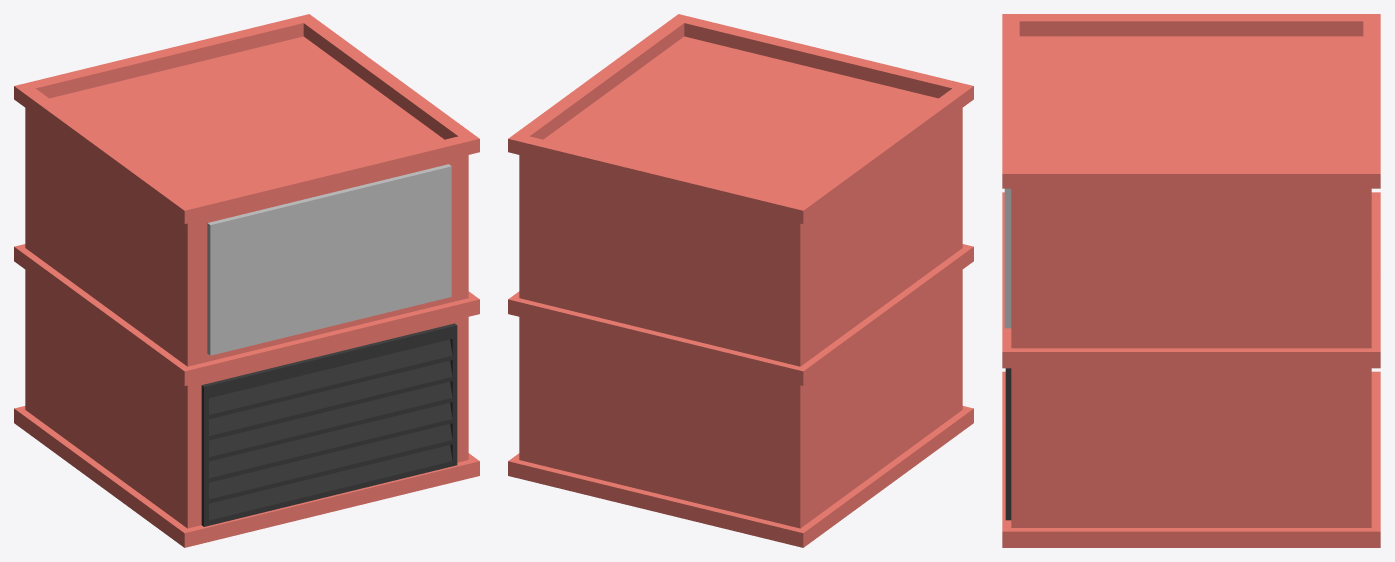
File: 2 Building.fbx
3 views of the same model, side by side, from view 1: azimuth 30°, elevation 25°; view 2: azimuth 150°, elevation 25°; view 3: azimuth 270°, elevation 25° (orthographic). The views are drawn at different scales.
Parts seen in each view (by area): view 1: Smol1, DoorShutter, Sign1; view 2: Smol1; view 3: Smol1, Sign1, DoorShutter.
Part boxes in pixels (x1,y1,x2,y2): Smol1: (14,14,479,547); DoorShutter: (201,323,457,526); Sign1: (207,164,451,355); Smol1: (508,14,973,547); Smol1: (1002,14,1380,547); Sign1: (1004,188,1011,328); DoorShutter: (1005,368,1011,520).
Size of the model in its own units: 420 by 458 by 420.
